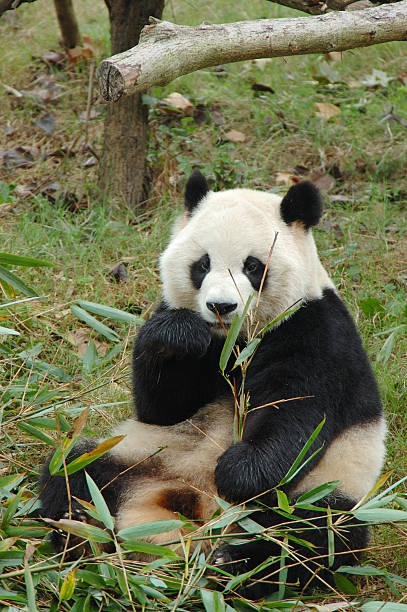panda: (151, 162, 372, 369)
